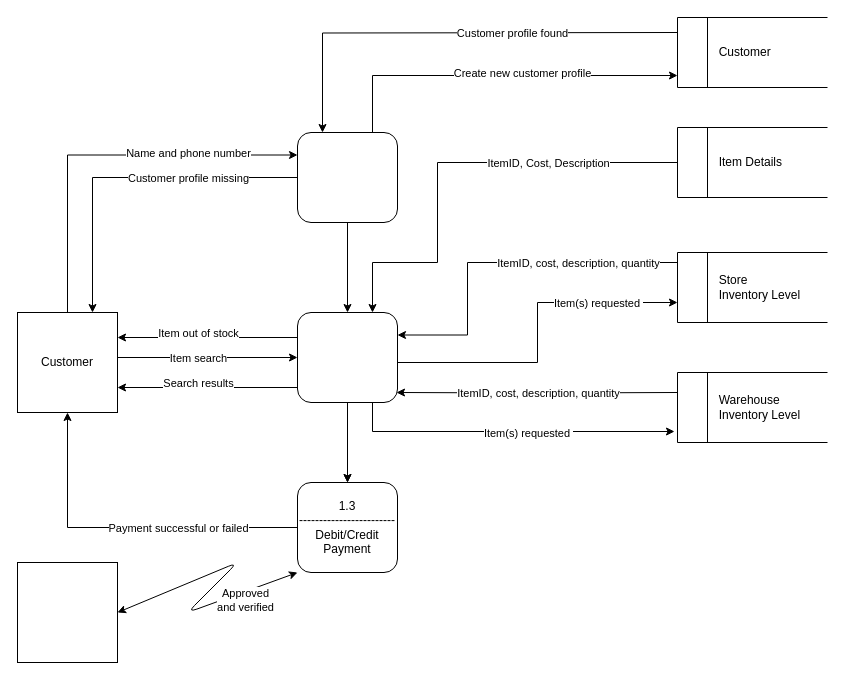
Some shapes in this 845 by 680 pixel diagram are drawn without their labels. Each missing label, with the centre of its shape:
1.1 ------------------------ Check for Customer Profile: (x=347, y=177)
1.2 ------------------------ Check Item Availability: (x=347, y=357)
Bank: (x=67, y=612)
